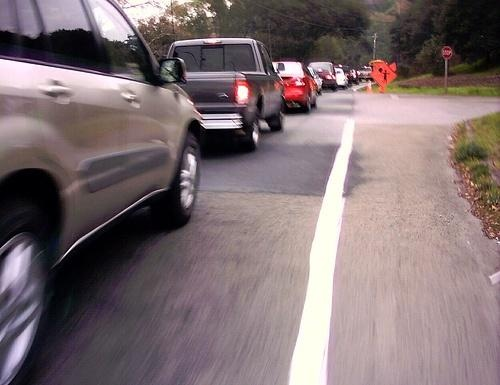car: (1, 2, 203, 385), (163, 37, 284, 151), (270, 62, 320, 115), (309, 62, 338, 94)
